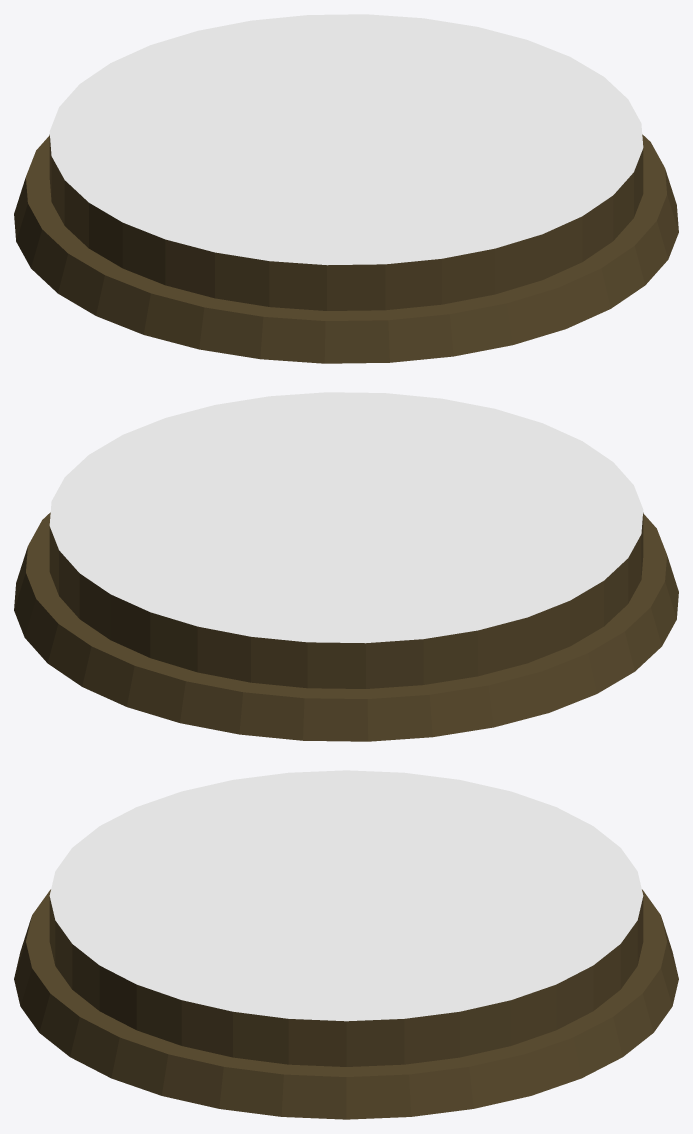
The model's file is ZonMana02.glb.
The picture shows the model from 3 angles, top to bottom: view 1: azimuth 30°, elevation 25°; view 2: azimuth 150°, elevation 25°; view 3: azimuth 270°, elevation 25°; orthographic projection.
Parts seen in each view (by area): view 1: ZonMana02; view 2: ZonMana02; view 3: ZonMana02.
Part boxes in pixels (left/top/right/bottom): ZonMana02: left=14, top=14, right=678, bottom=363; ZonMana02: left=14, top=392, right=678, bottom=741; ZonMana02: left=14, top=770, right=678, bottom=1119.
Bounding box in the file's own units: 2.17 × 0.3 × 2.17.
